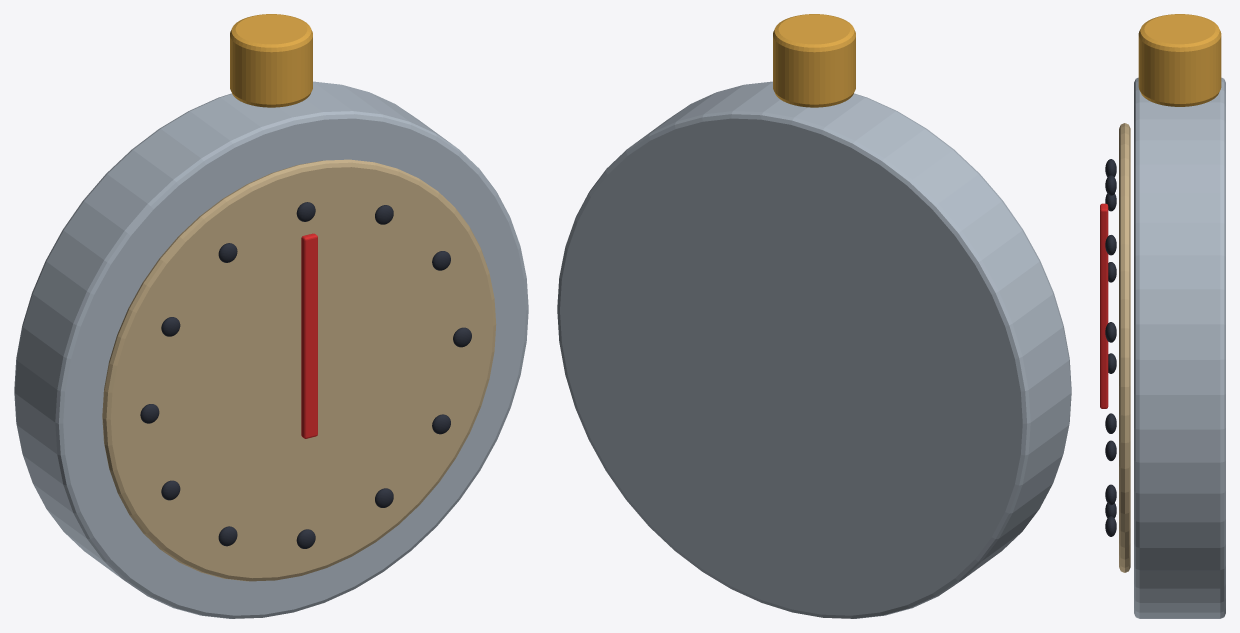
The model's file is chronometre-suisse.glb.
3 renders of one model, left to right at view 1: azimuth 30°, elevation 25°; view 2: azimuth 150°, elevation 25°; view 3: azimuth 270°, elevation 25°, orthographic.
Parts seen in each view (by area): view 1: Cadran, Boitier, Couronne, Aiguille; view 2: Boitier, Couronne; view 3: Boitier, Couronne, Cadran, Aiguille, Index.004, Index.002, Index.005, Index, Index.003, Index.001, Index.007.
Boxes of the visible parts, left/top/right/bottom form: Cadran: left=102, top=159, right=496, bottom=581; Boitier: left=14, top=81, right=528, bottom=618; Couronne: left=230, top=14, right=312, bottom=107; Aiguille: left=301, top=233, right=317, bottom=438; Boitier: left=557, top=81, right=1071, bottom=618; Couronne: left=773, top=14, right=855, bottom=107; Boitier: left=1134, top=77, right=1225, bottom=618; Couronne: left=1138, top=14, right=1221, bottom=106; Cadran: left=1119, top=123, right=1130, bottom=572; Aiguille: left=1100, top=203, right=1108, bottom=408; Index.004: left=1105, top=484, right=1116, bottom=505; Index.002: left=1105, top=322, right=1116, bottom=342; Index.005: left=1105, top=516, right=1116, bottom=536; Index: left=1105, top=175, right=1116, bottom=195; Index.003: left=1105, top=413, right=1116, bottom=433; Index.001: left=1105, top=235, right=1116, bottom=255; Index.007: left=1105, top=440, right=1116, bottom=460.
Size of the model in its own units: 2.36 by 2.71 by 0.548.
